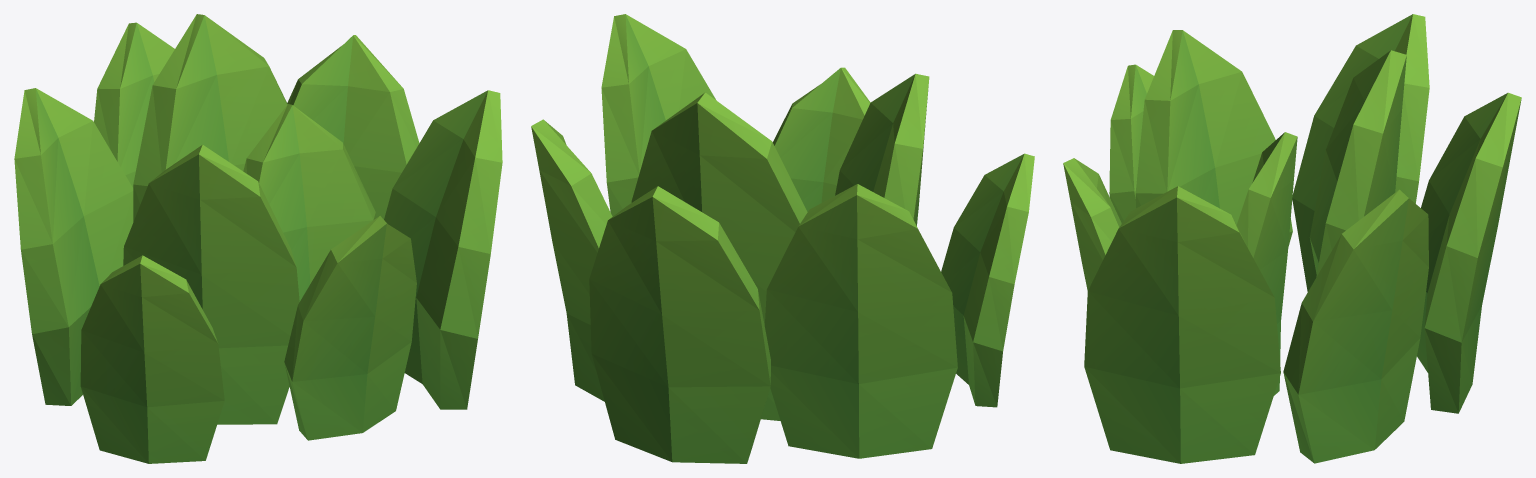
Rendered from kf_grass_1_c.fbx.
3 renders of one model, left to right at view 1: azimuth 30°, elevation 25°; view 2: azimuth 150°, elevation 25°; view 3: azimuth 270°, elevation 25°, orthographic. The views are drawn at different scales.
Visible parts, largest first — view 1: kf_grass_1_c_LOD0; view 2: kf_grass_1_c_LOD0; view 3: kf_grass_1_c_LOD0.
Part boxes in pixels (x1=…): kf_grass_1_c_LOD0: x1=14, y1=14, x2=502, y2=463; kf_grass_1_c_LOD0: x1=531, y1=14, x2=1034, y2=463; kf_grass_1_c_LOD0: x1=1063, y1=14, x2=1521, y2=463.
Size of what is drawn, in the model's own units: 1.05 by 0.8168 by 1.
Materials: 1 (1 with a texture image).
